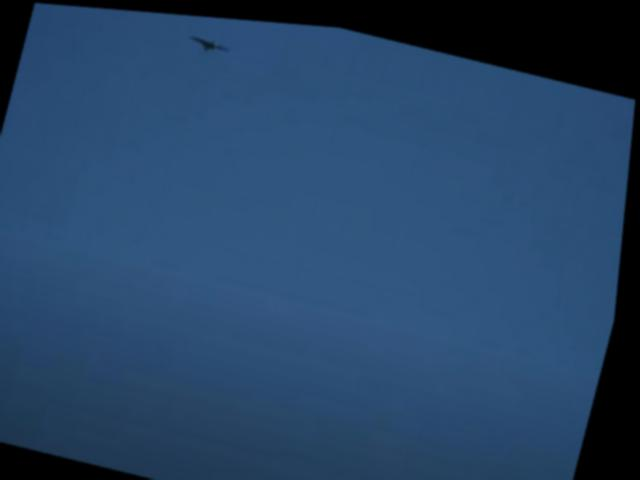iha: (186, 26, 232, 55)
